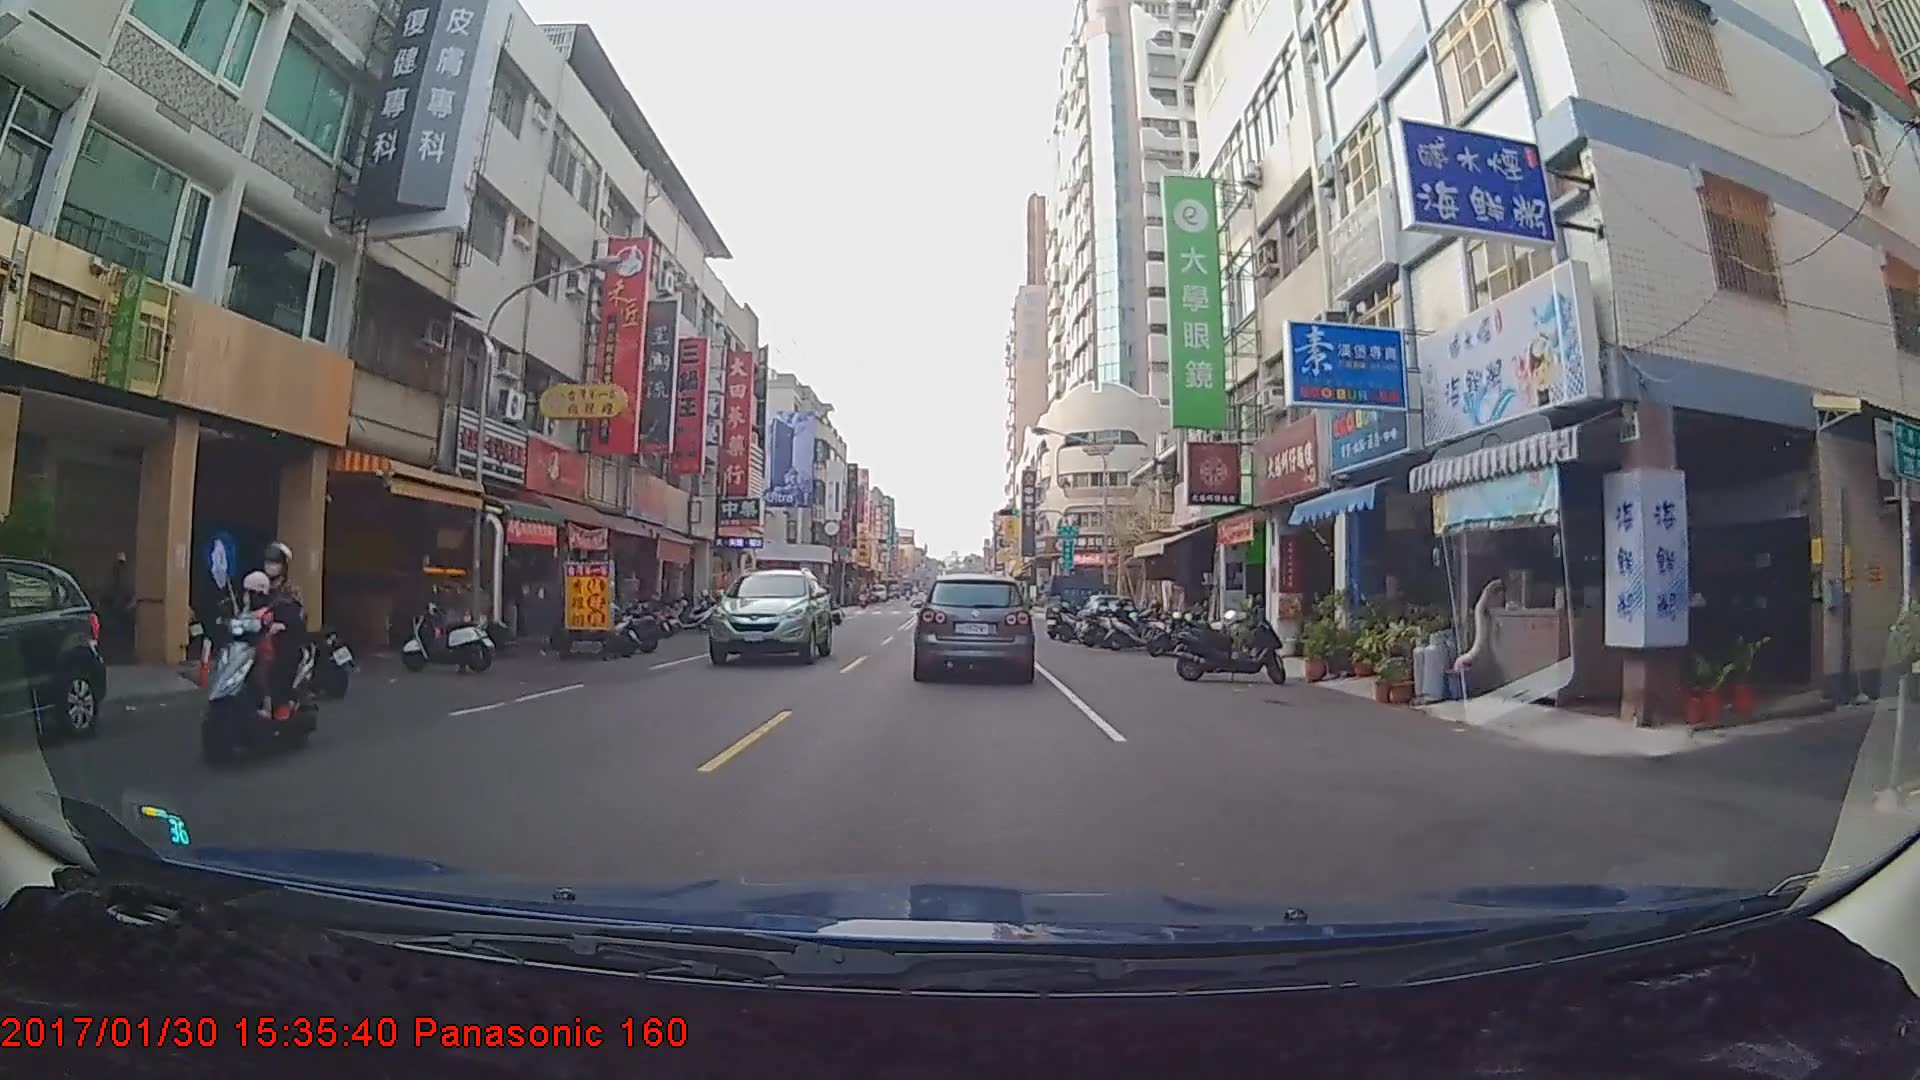rider: (196, 538, 323, 768)
vehicle: (914, 570, 1034, 680), (704, 566, 833, 667), (1047, 572, 1117, 633)
